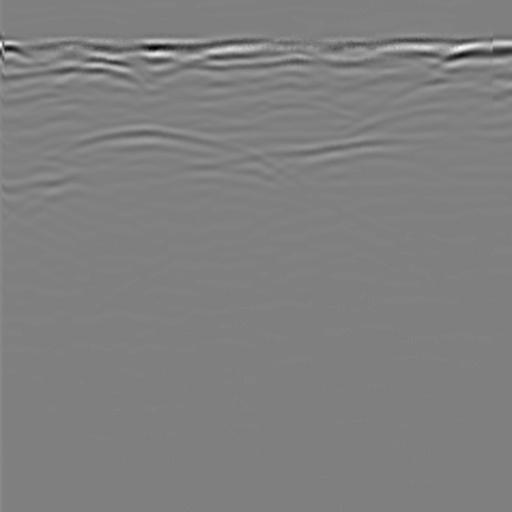hyperbola: (16, 112, 288, 226)
